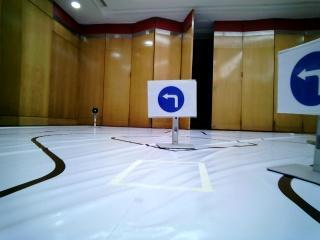left: (282, 39, 320, 114), (146, 81, 195, 118)
